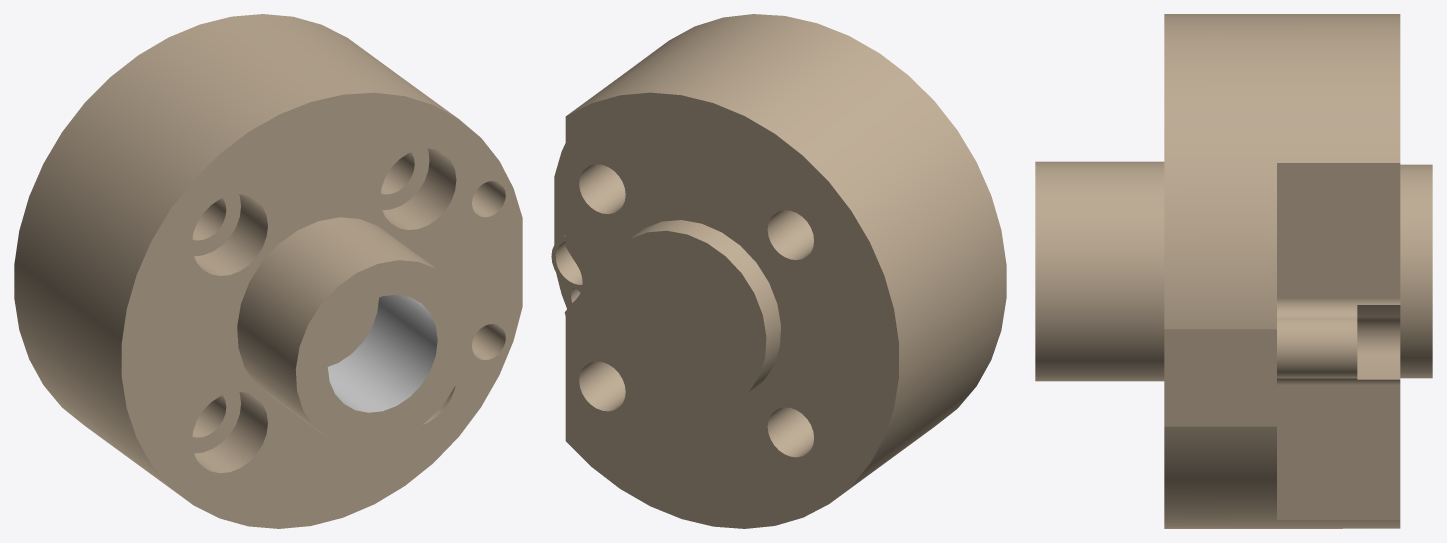
The model's file is tool_changer_robot_side.glb.
3 views of the same model, side by side, from view 1: azimuth 30°, elevation 25°; view 2: azimuth 150°, elevation 25°; view 3: azimuth 270°, elevation 25° (orthographic). The views are drawn at different scales.
Parts seen in each view (by area): view 1: tool_changer_robot_side; view 2: tool_changer_robot_side; view 3: tool_changer_robot_side.
Part boxes in pixels (x1,y1,x2,y2): tool_changer_robot_side: (14, 14, 522, 528); tool_changer_robot_side: (551, 14, 1006, 528); tool_changer_robot_side: (1035, 14, 1432, 528).
Size of the model in its own units: 47.4 by 47.9 by 37.
